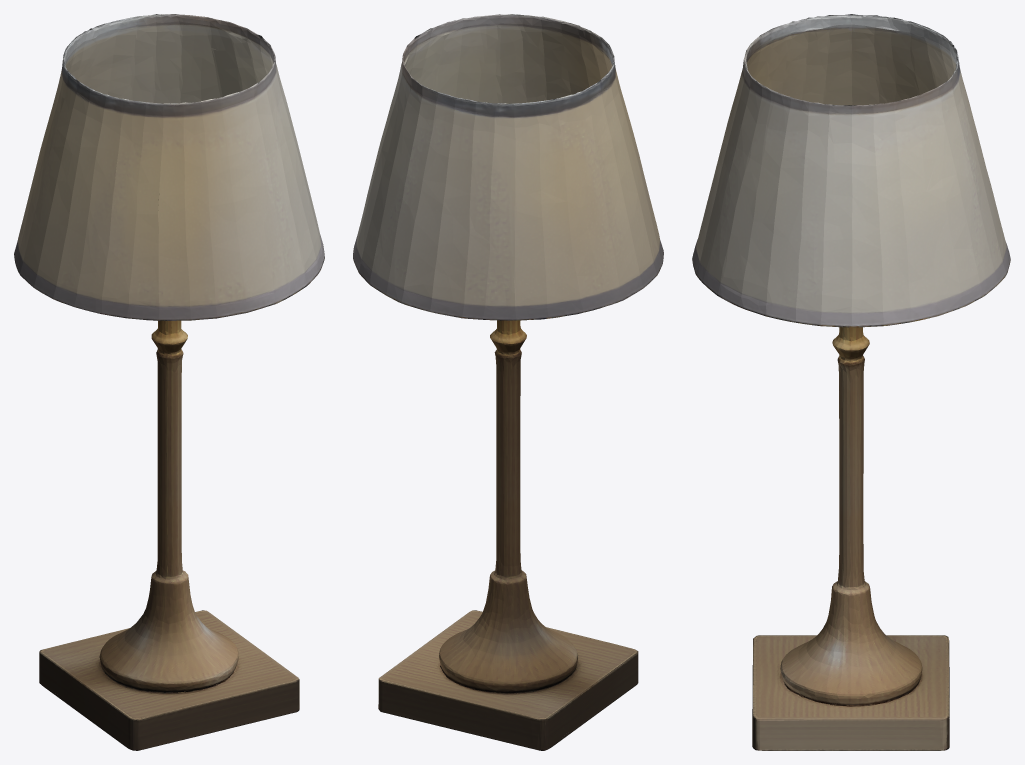
File: TRELLIS.glb
3 views of the same model, side by side, from view 1: azimuth 30°, elevation 25°; view 2: azimuth 150°, elevation 25°; view 3: azimuth 270°, elevation 25° (orthographic).
Parts seen in each view (by area): view 1: world; view 2: world; view 3: world.
Boxes of the visible parts, <box> form: world: <box>14,14,324,750</box>; world: <box>353,14,663,750</box>; world: <box>692,14,1010,750</box>.
Bounding box in the file's own units: 0.41 × 0.922 × 0.4098.
1 material, 1 textured.
